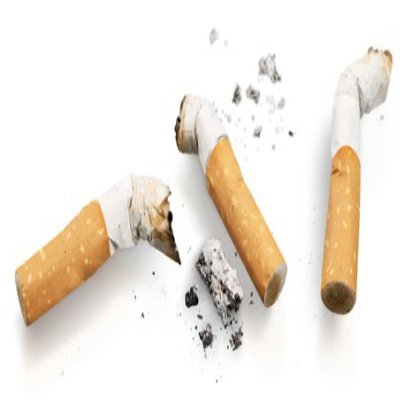cigarette: (8, 173, 184, 331), (173, 80, 290, 308), (322, 43, 393, 316)
